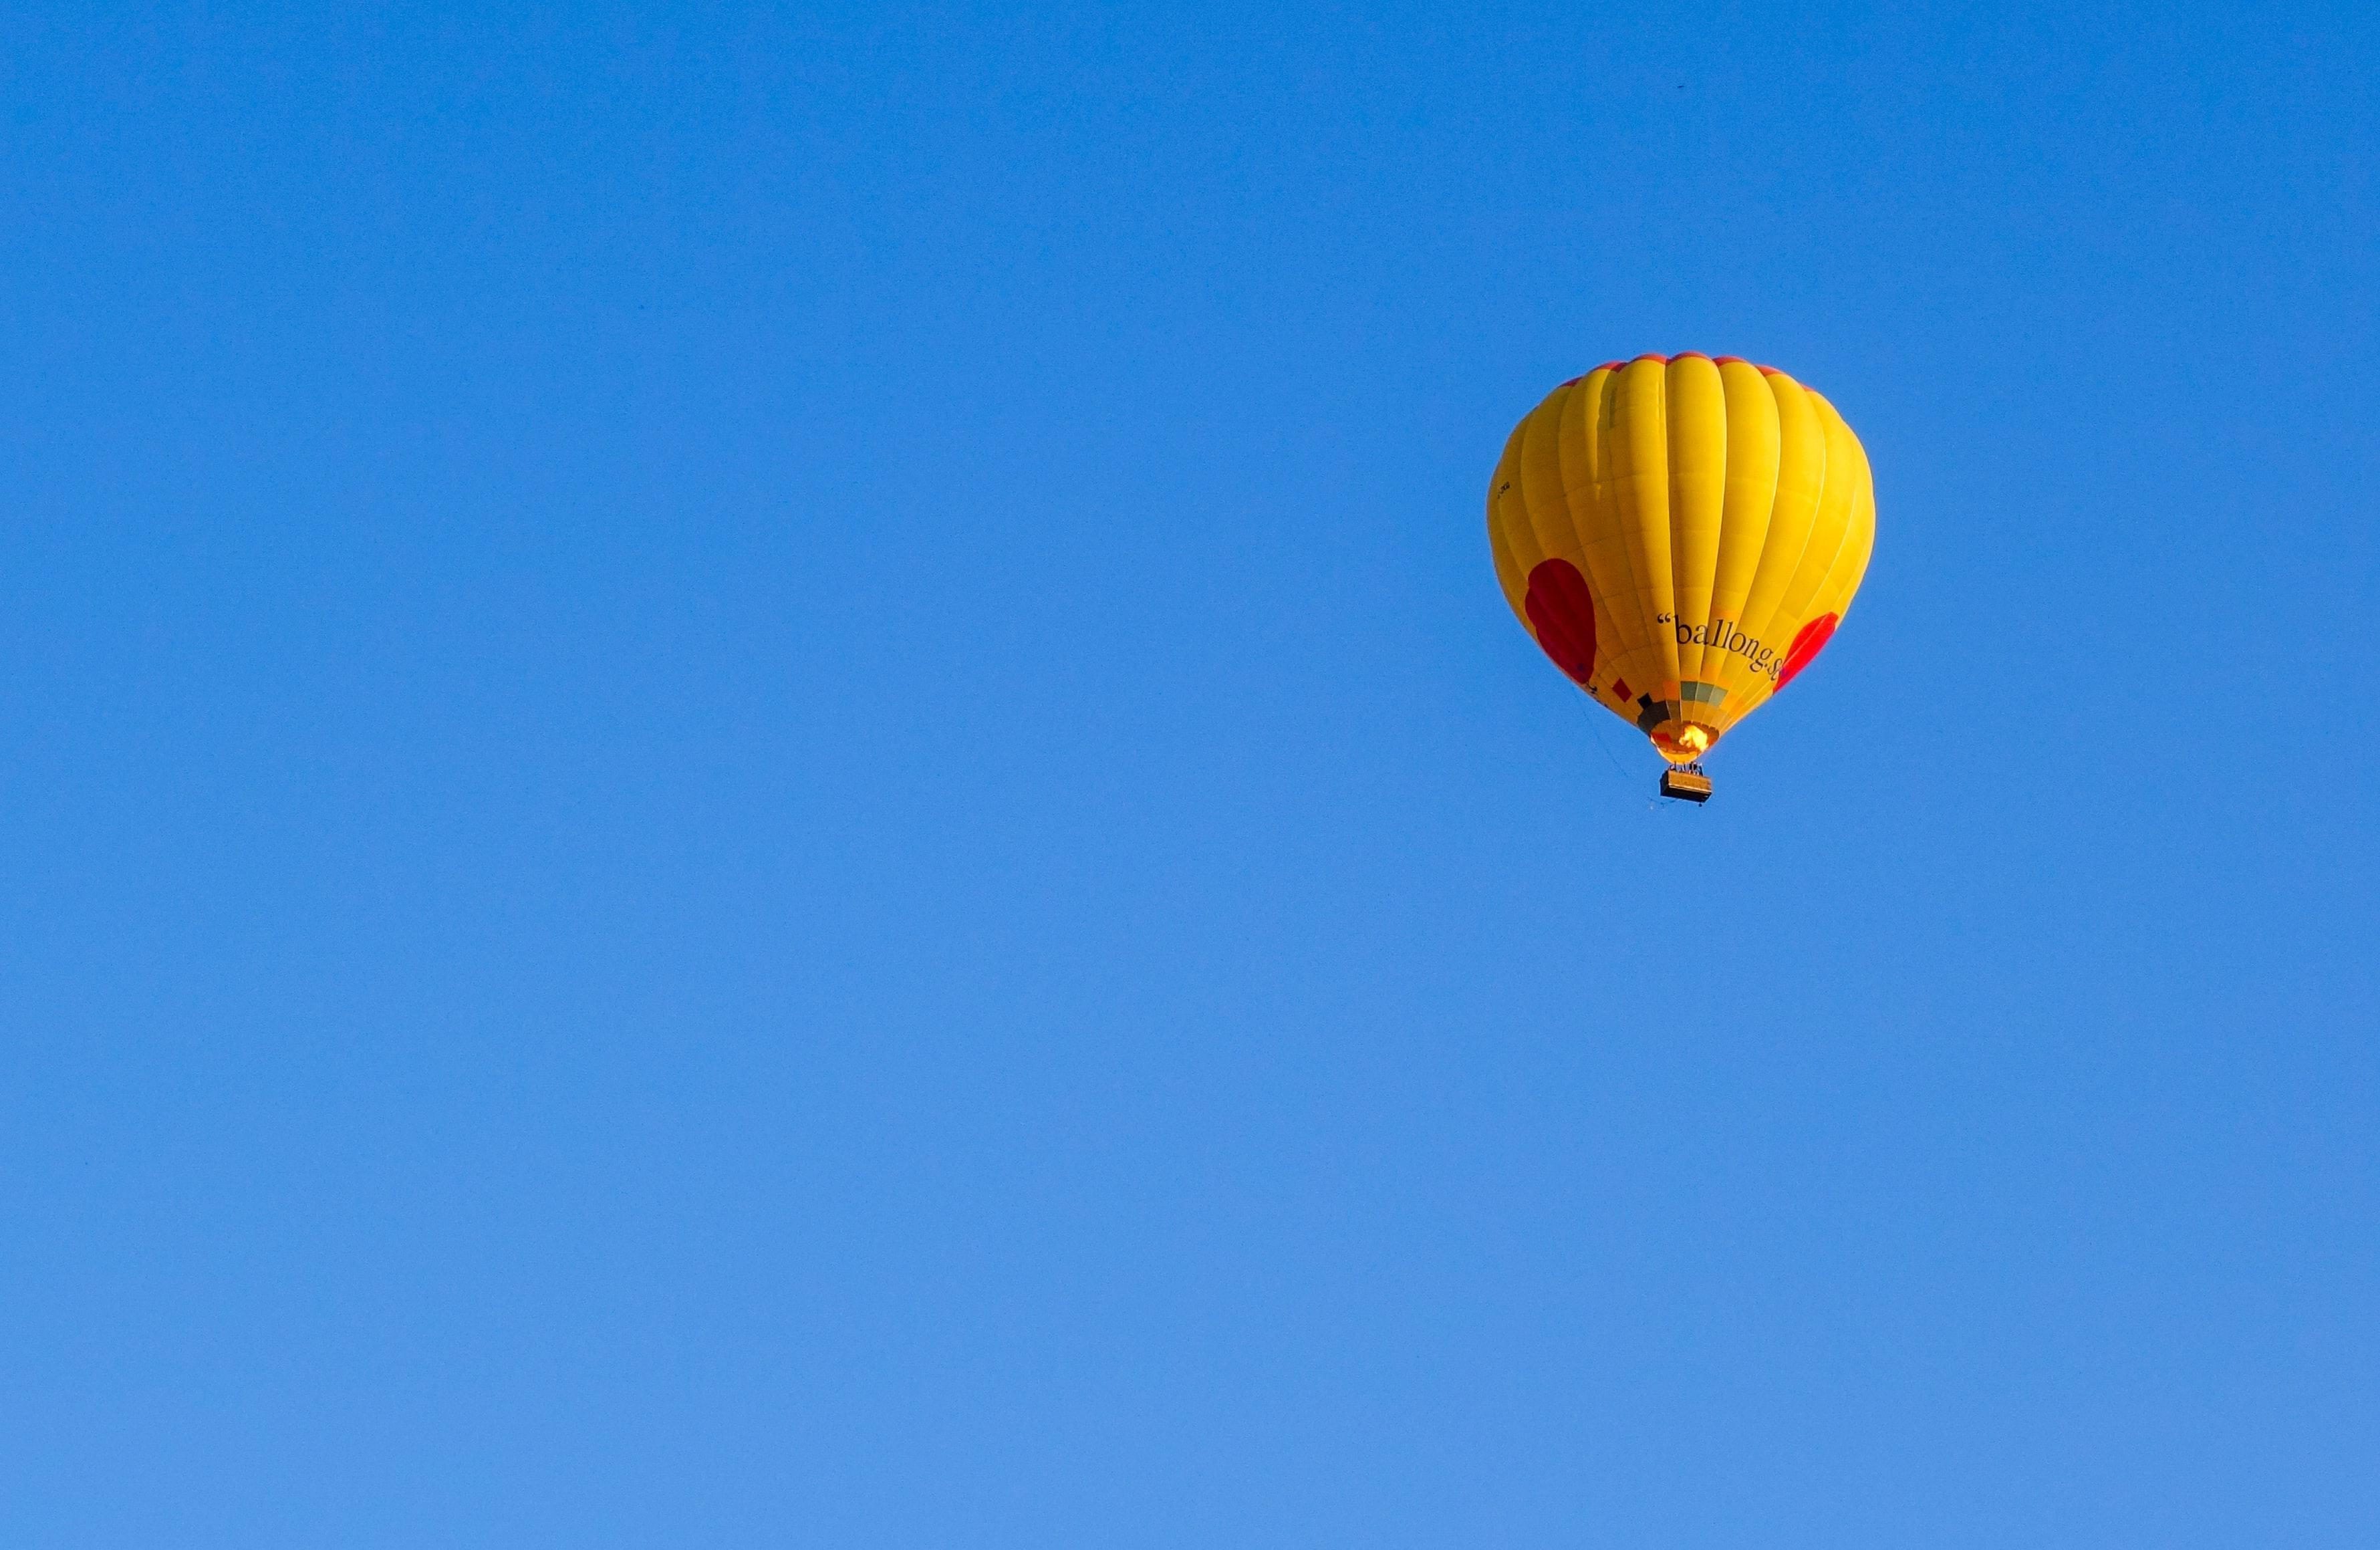hot air ballon: (1478, 347, 1879, 809)
